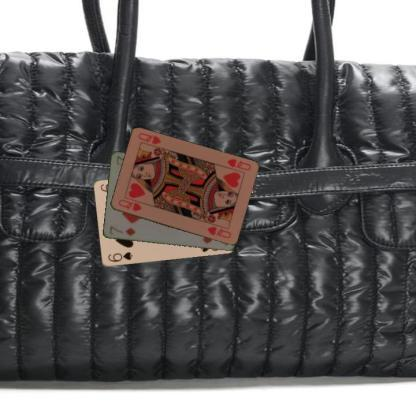6s: (105, 249, 134, 264)
7d: (107, 223, 136, 238)
Qh: (224, 156, 252, 172), (116, 197, 142, 213)
